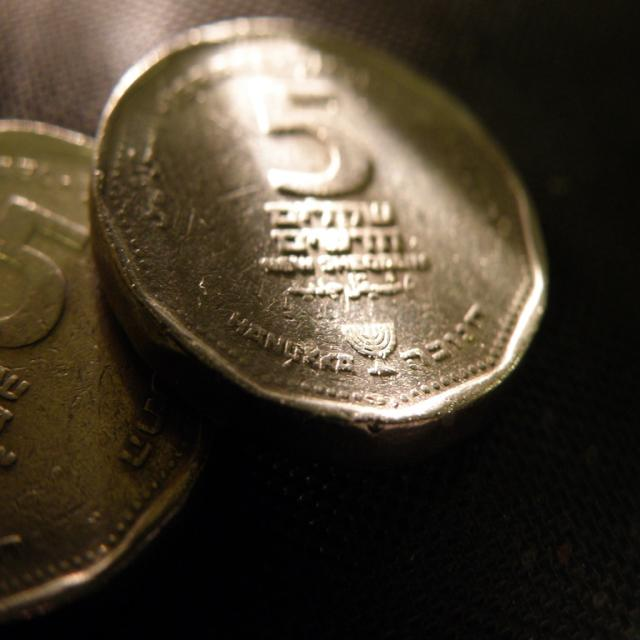Coin: (92, 14, 553, 439), (0, 118, 212, 626)
